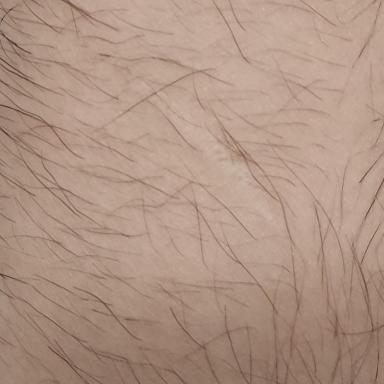normal skin: (0, 0, 384, 382)
